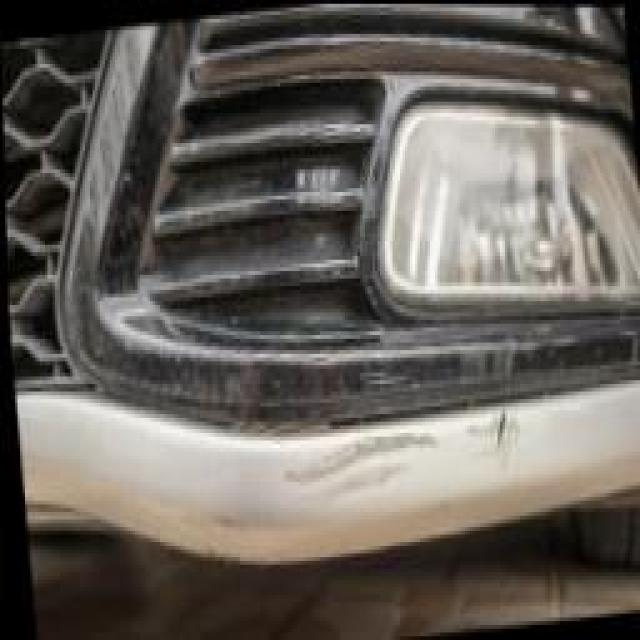Bumper: (142, 339, 573, 587)
